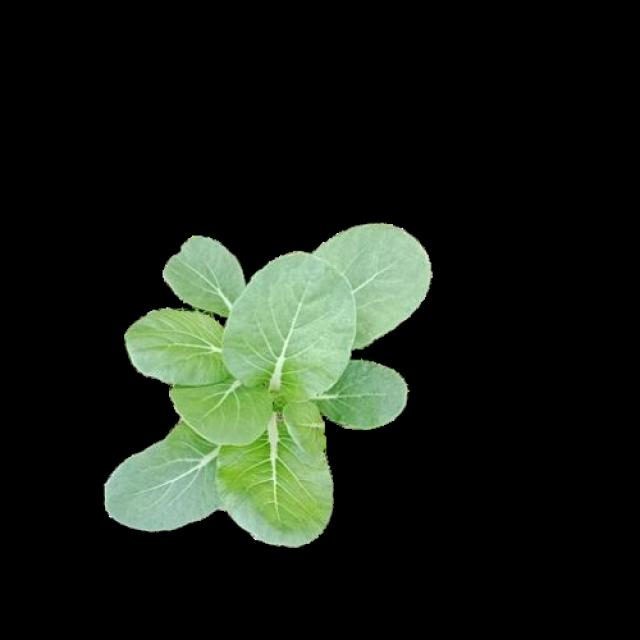healthy: (100, 218, 429, 544)
not-mature: (102, 220, 432, 547)
